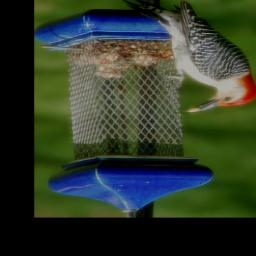Woodpecker: (114, 0, 256, 117)
